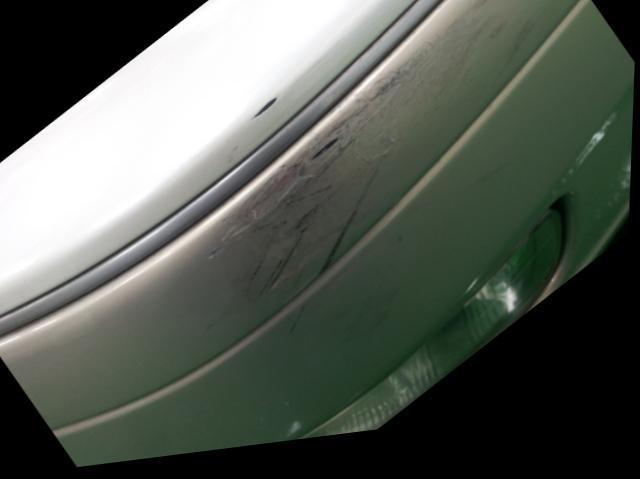scratch: (214, 0, 563, 339)
